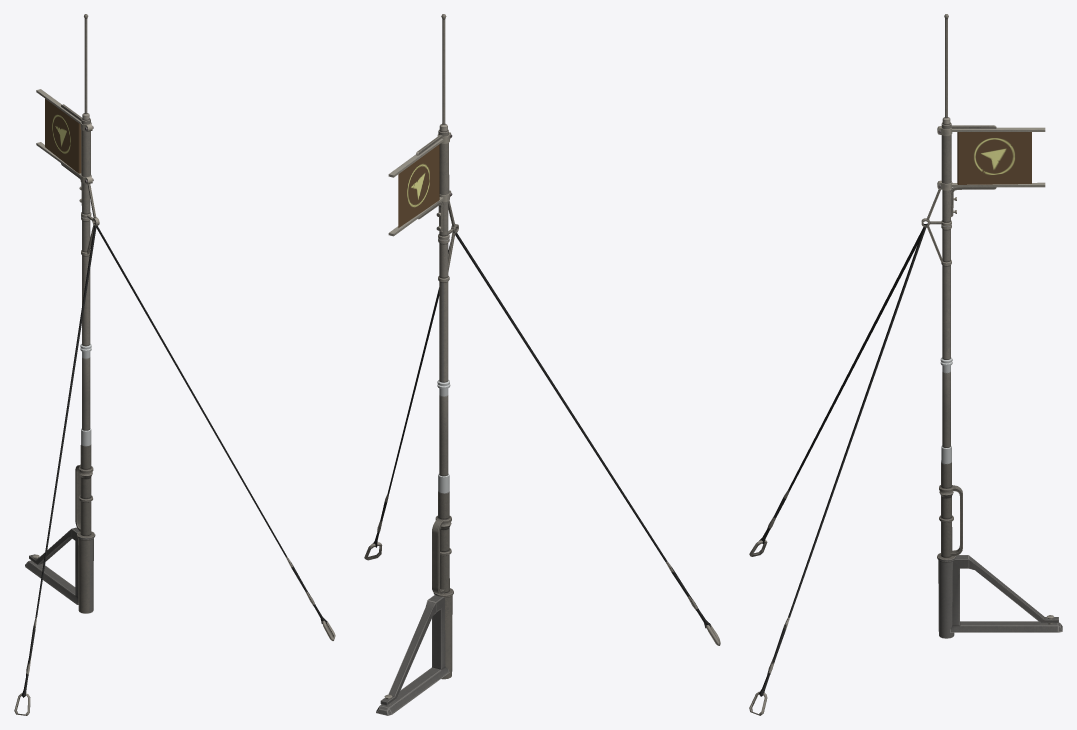
File: standardScout.fbx
3 views of the same model, side by side, from view 1: azimuth 30°, elevation 25°; view 2: azimuth 150°, elevation 25°; view 3: azimuth 270°, elevation 25° (orthographic). The views are drawn at different scales.
Visible parts, largest first — view 1: standardScout_LOD0; view 2: standardScout_LOD0; view 3: standardScout_LOD0.
Boxes of the visible parts, box(x1,y1,x2,y2) form: standardScout_LOD0: box(14, 14, 335, 715); standardScout_LOD0: box(364, 14, 720, 715); standardScout_LOD0: box(749, 14, 1062, 715).
Size of what is drawn, in the model's own units: 2.98 by 5.32 by 2.43.
